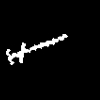double_crochet: (6, 34, 67, 64)
